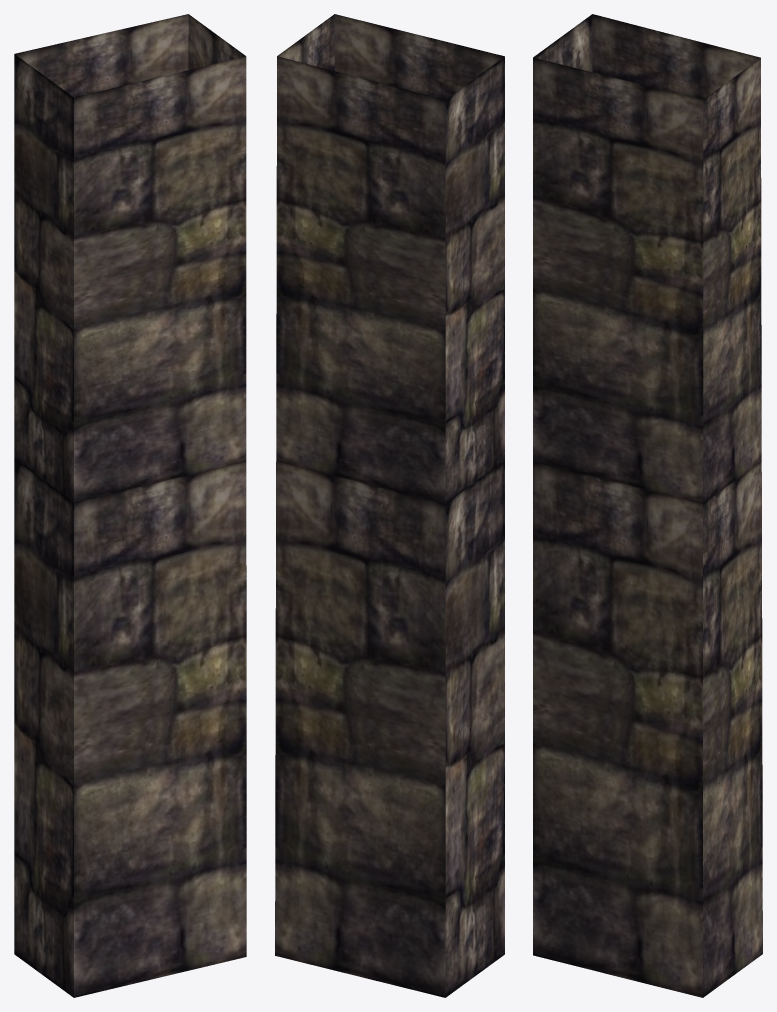
Rendered from interior_column_fort.fbx.
The picture shows the model from 3 angles, left to right: view 1: azimuth 30°, elevation 25°; view 2: azimuth 150°, elevation 25°; view 3: azimuth 330°, elevation 25°; orthographic projection.
Visible parts, largest first — view 1: interior_column_fort; view 2: interior_column_fort; view 3: interior_column_fort.
Boxes of the visible parts, bbox=[...] form: interior_column_fort: bbox=[14, 14, 246, 997]; interior_column_fort: bbox=[275, 14, 504, 997]; interior_column_fort: bbox=[533, 14, 762, 997].
Bounding box in the file's own units: 484 × 2428 × 297.
Materials: 1 (1 with a texture image).
